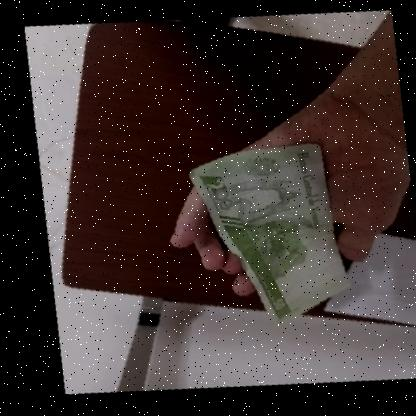fifty-back-vef: (163, 127, 367, 344)
